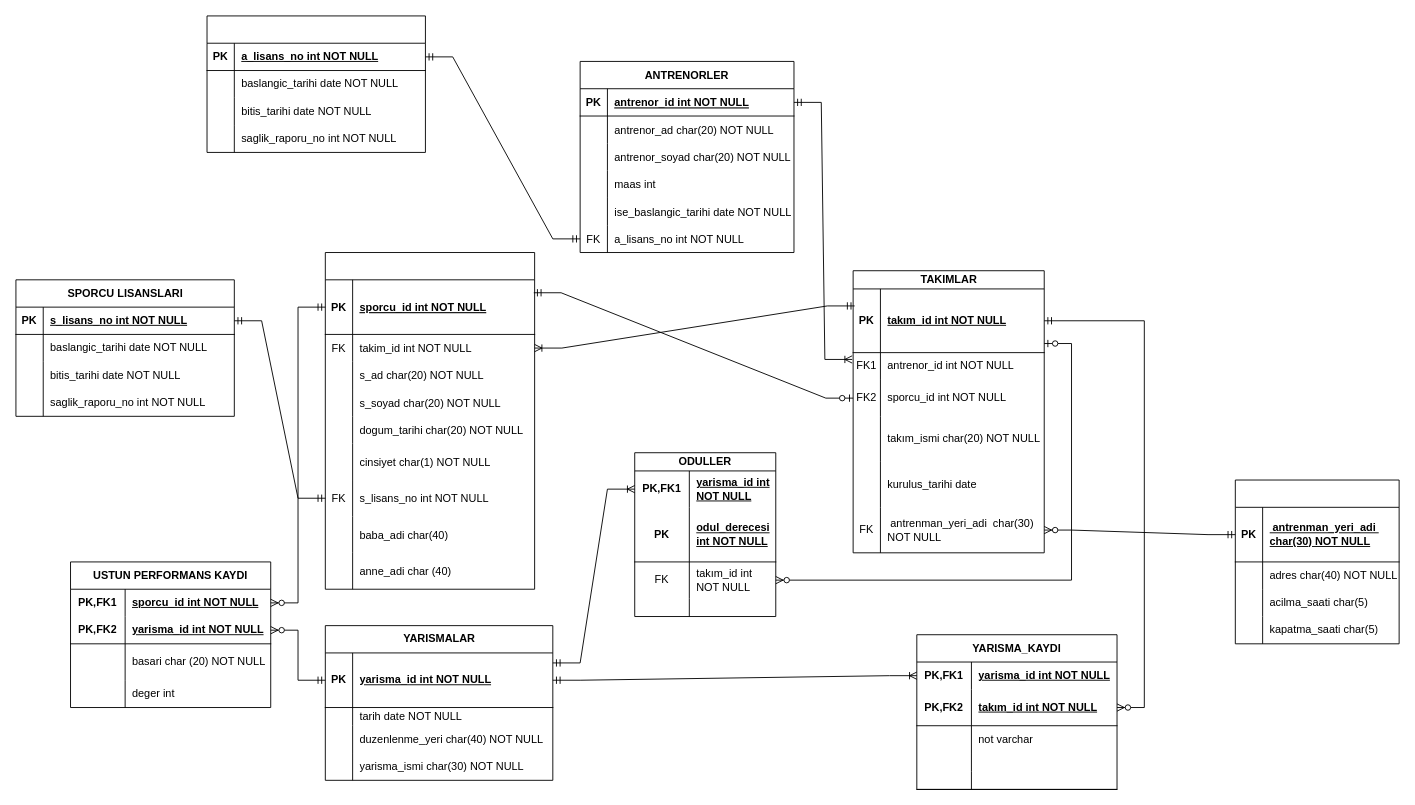
The diagram is 1415 pixels wide and 805 high, and some of its shapes have lost their labels. Here are the shapes that lost their labels. From the top down, the box of each, then its label:
(206, 15, 425, 152): ANTRENOR LISANSLARI
(324, 252, 535, 589): SPORCULAR
(1234, 479, 1399, 644): ANTRENMAN YERLERI
